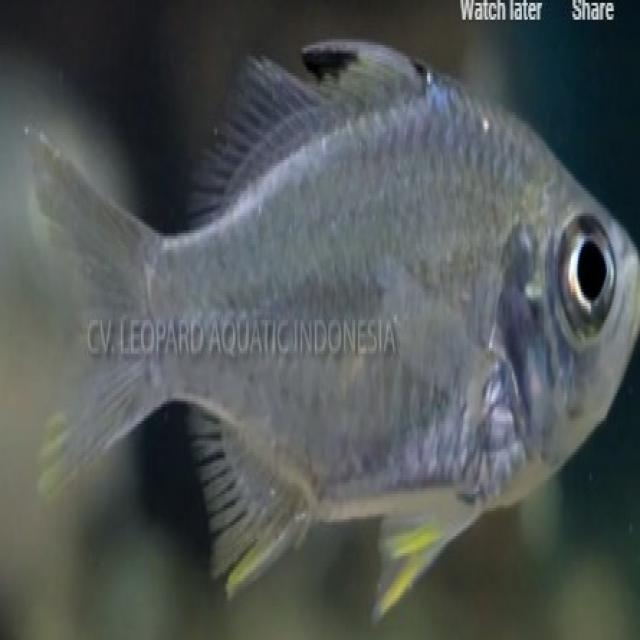Glass-Perchlet: (3, 8, 640, 624)
